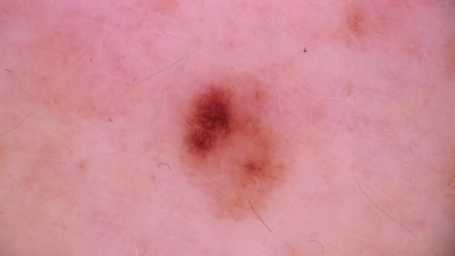nevus: (186, 85, 235, 157)
